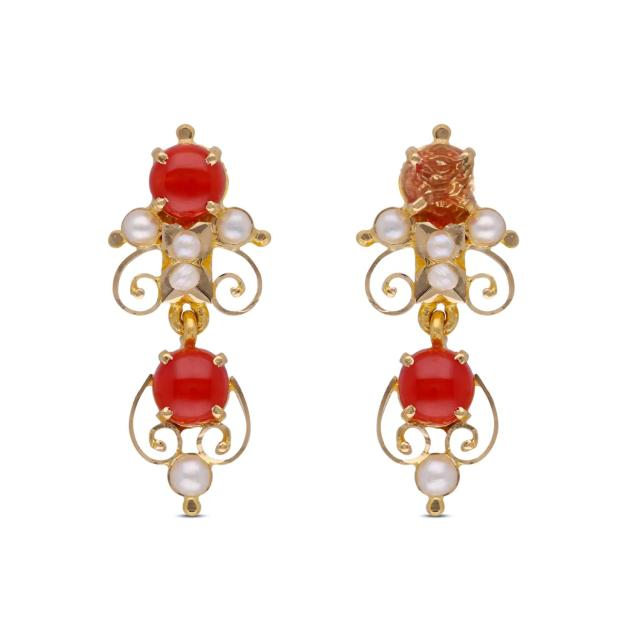missing gem: (401, 143, 478, 221)
